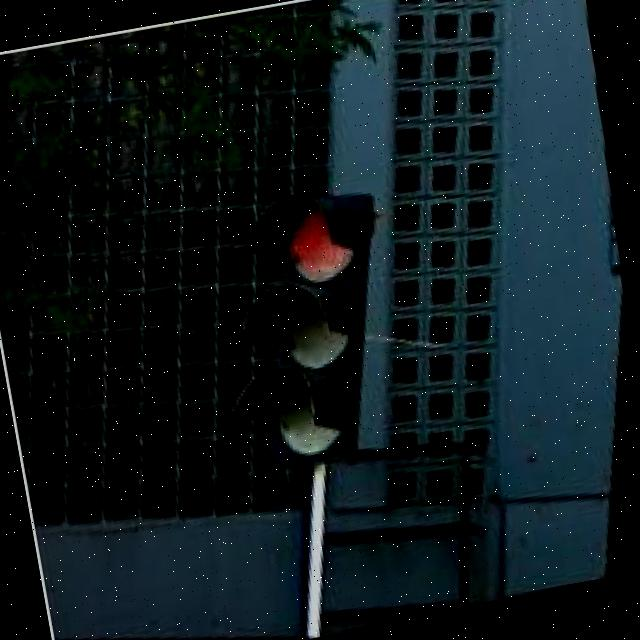red_light: (187, 170, 419, 490)
